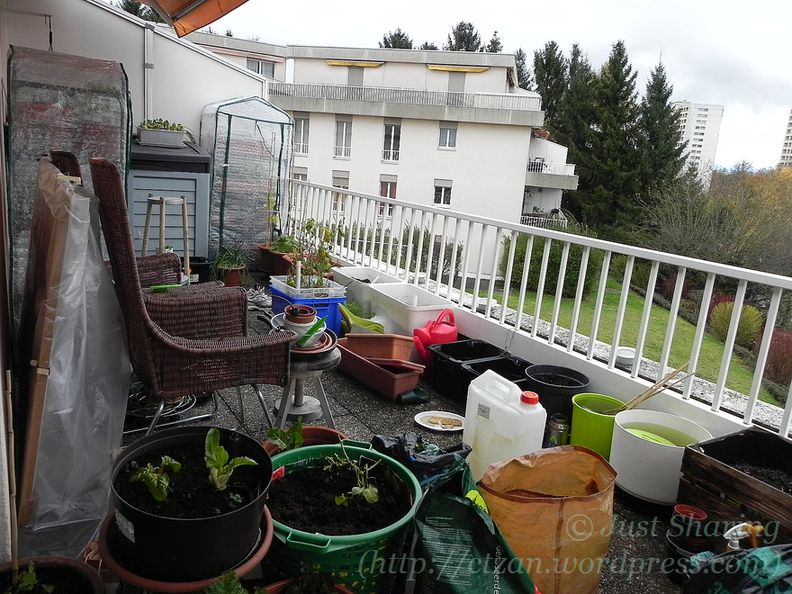building: (254, 60, 599, 288)
container: (609, 412, 720, 504), (432, 320, 535, 396), (364, 277, 458, 333), (523, 354, 591, 422), (570, 390, 631, 464), (272, 299, 340, 360), (342, 322, 414, 365), (614, 340, 643, 370), (472, 294, 501, 314)
sky: (218, 1, 729, 89), (682, 7, 792, 166)
